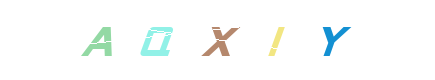A: (97, 0, 177, 80)
I: (228, 0, 308, 80)
Q: (178, 0, 258, 80)
X: (180, 0, 260, 80)
Y: (292, 0, 372, 80)
